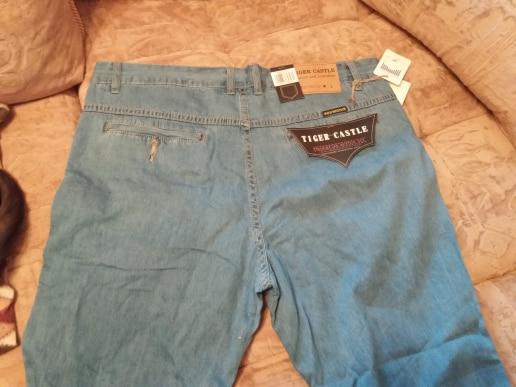jeans: (25, 51, 472, 387)
